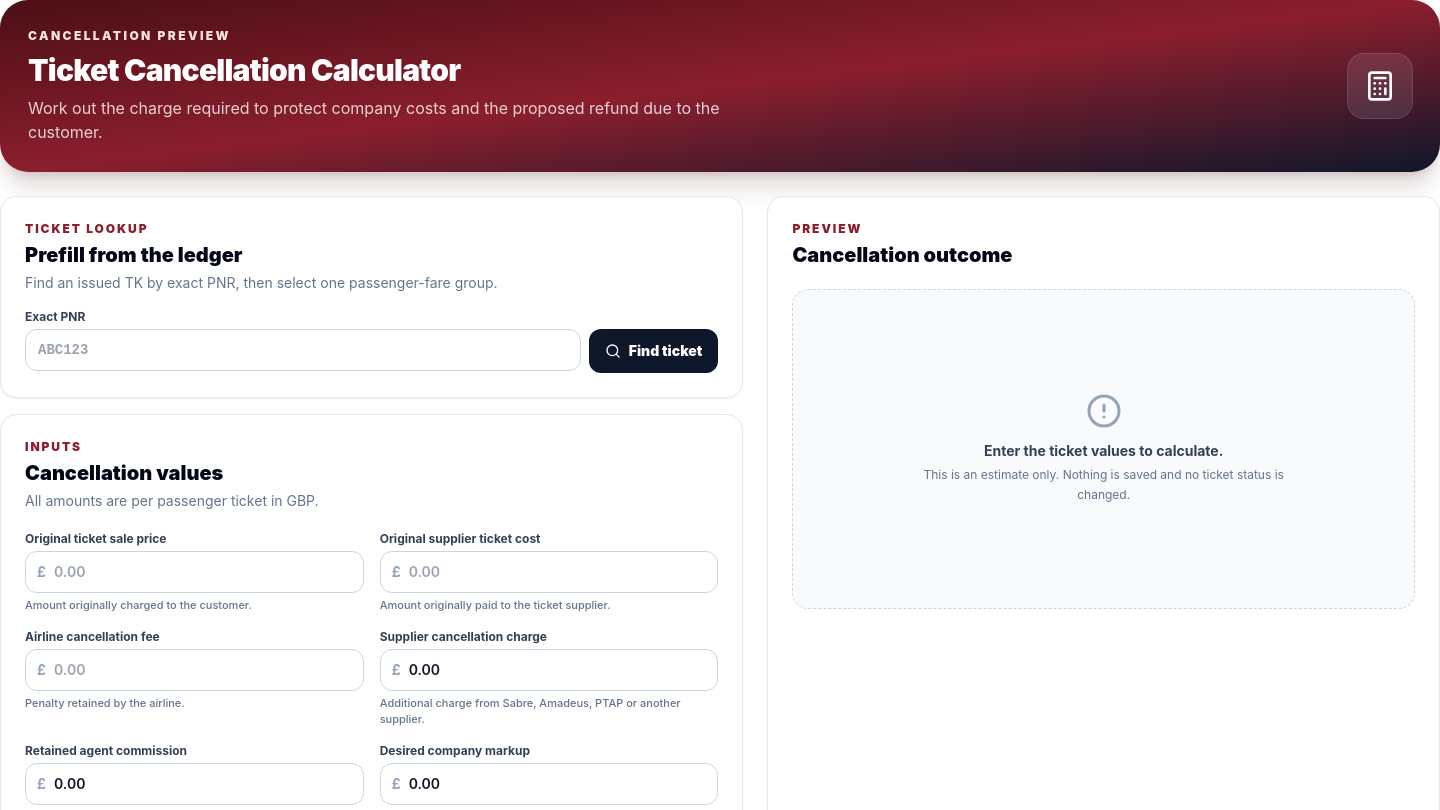
it: TicketCancellationCalculator › calculates the clarified cancellation preview without saving data
Type "800.00" into the field labelled "Original ticket sale price" at (194, 572), box [25, 551, 364, 593]
Type "650.00" into the field labelled "Original supplier ticket cost" at (549, 572), box [380, 551, 718, 593]
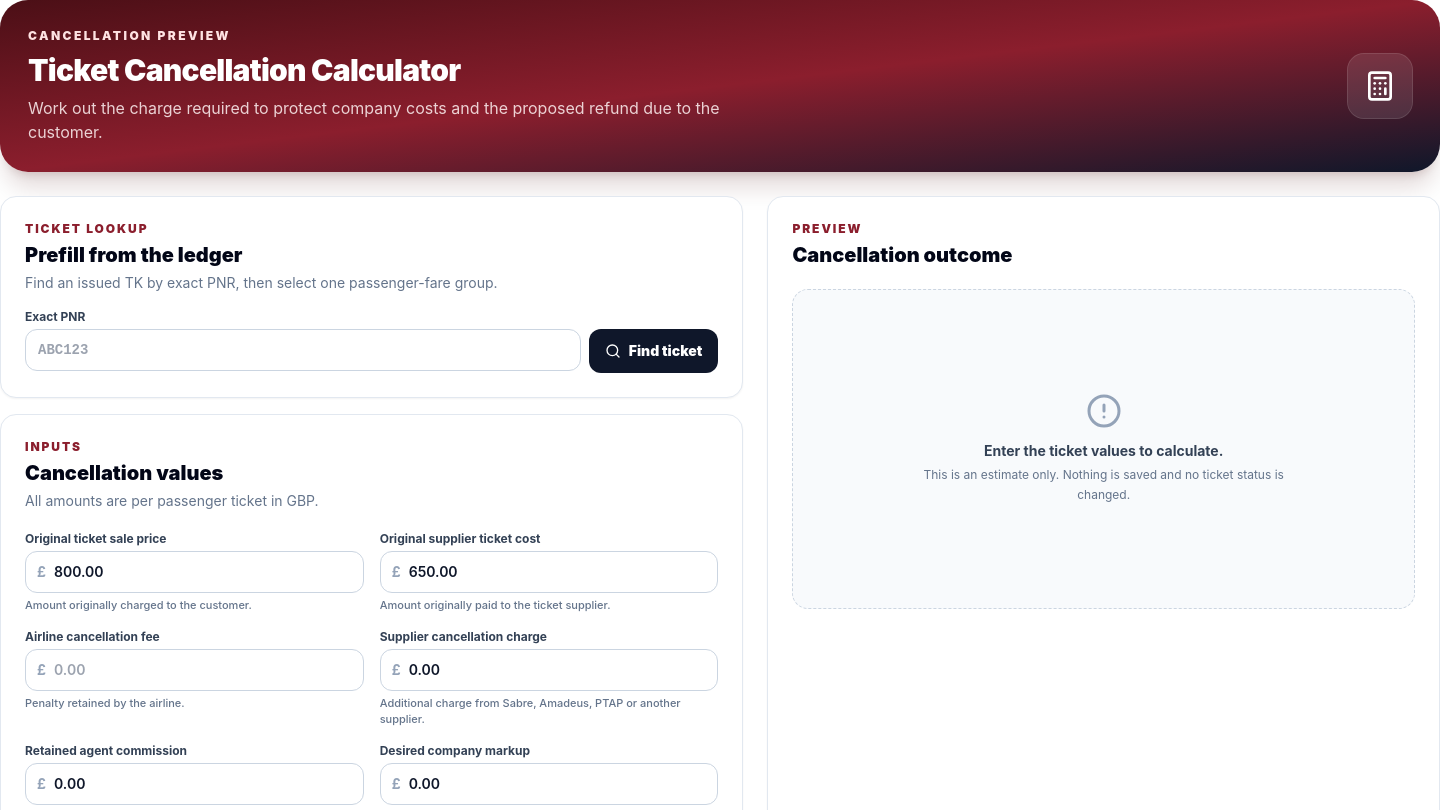
Type "150.00" into the field labelled "Airline cancellation fee" at (194, 670), box [25, 649, 364, 691]
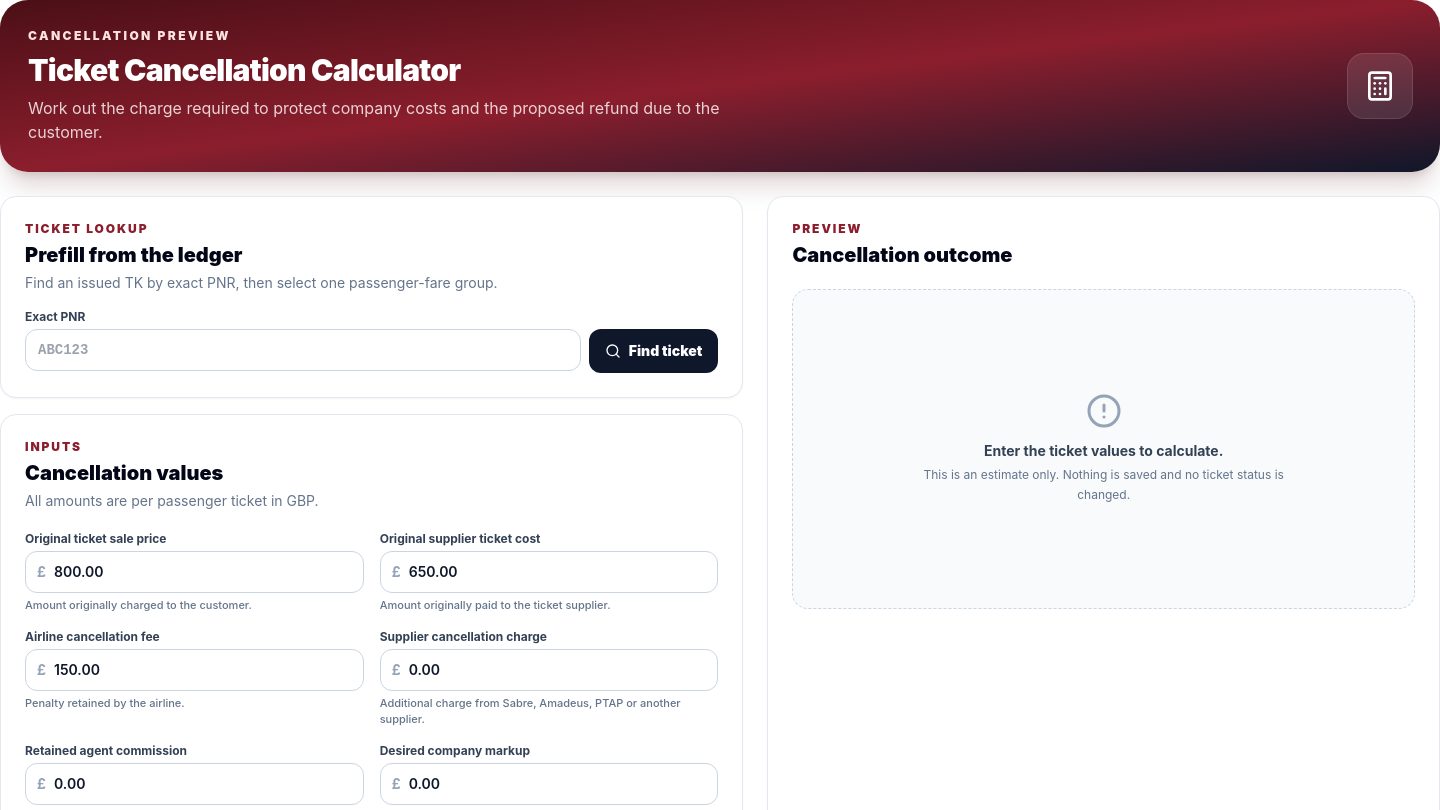
Type "10.00" into the field labelled "Supplier cancellation charge" at (549, 670), box [380, 649, 718, 691]
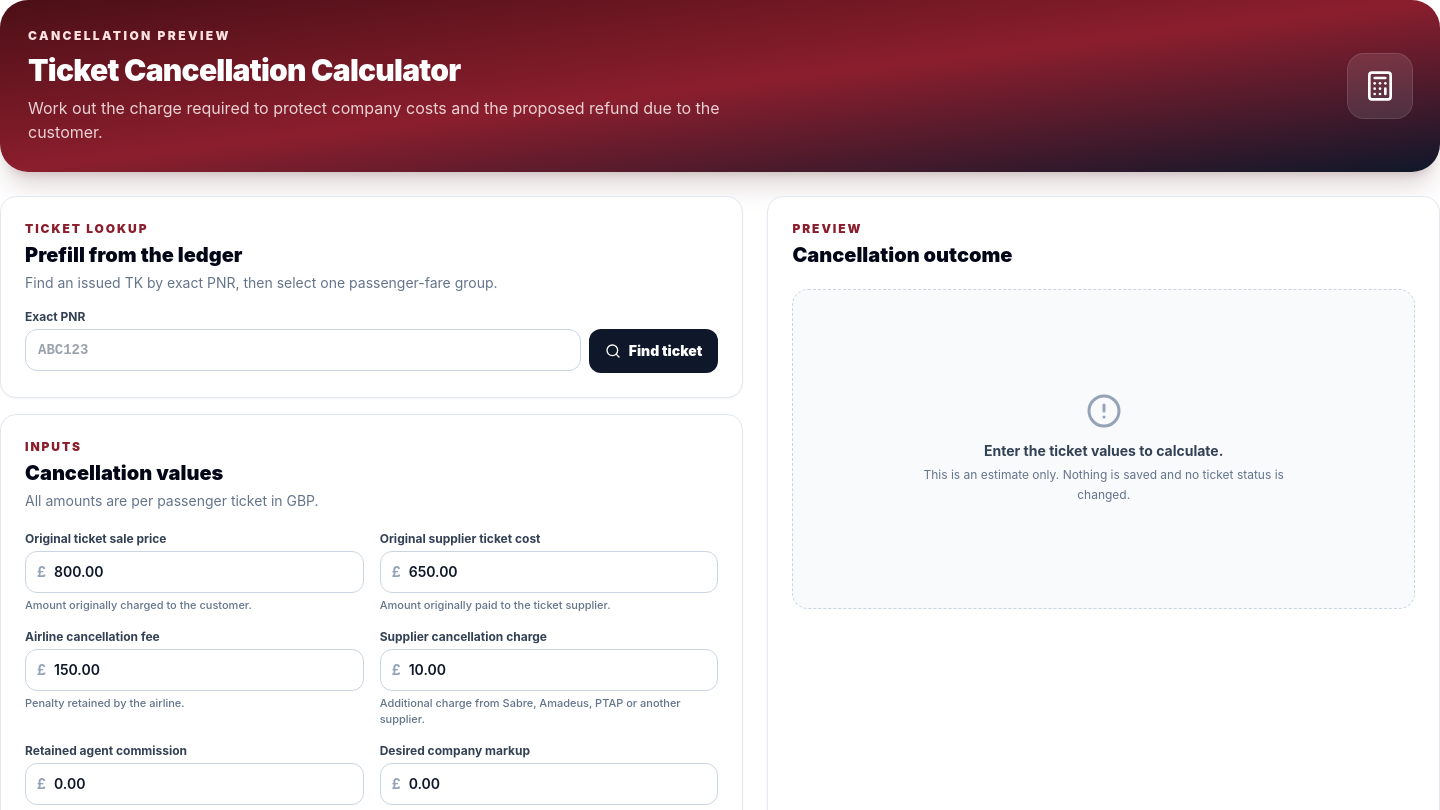
Type "5.00" into the field labelled "Retained agent commission" at (194, 784), box [25, 763, 364, 805]
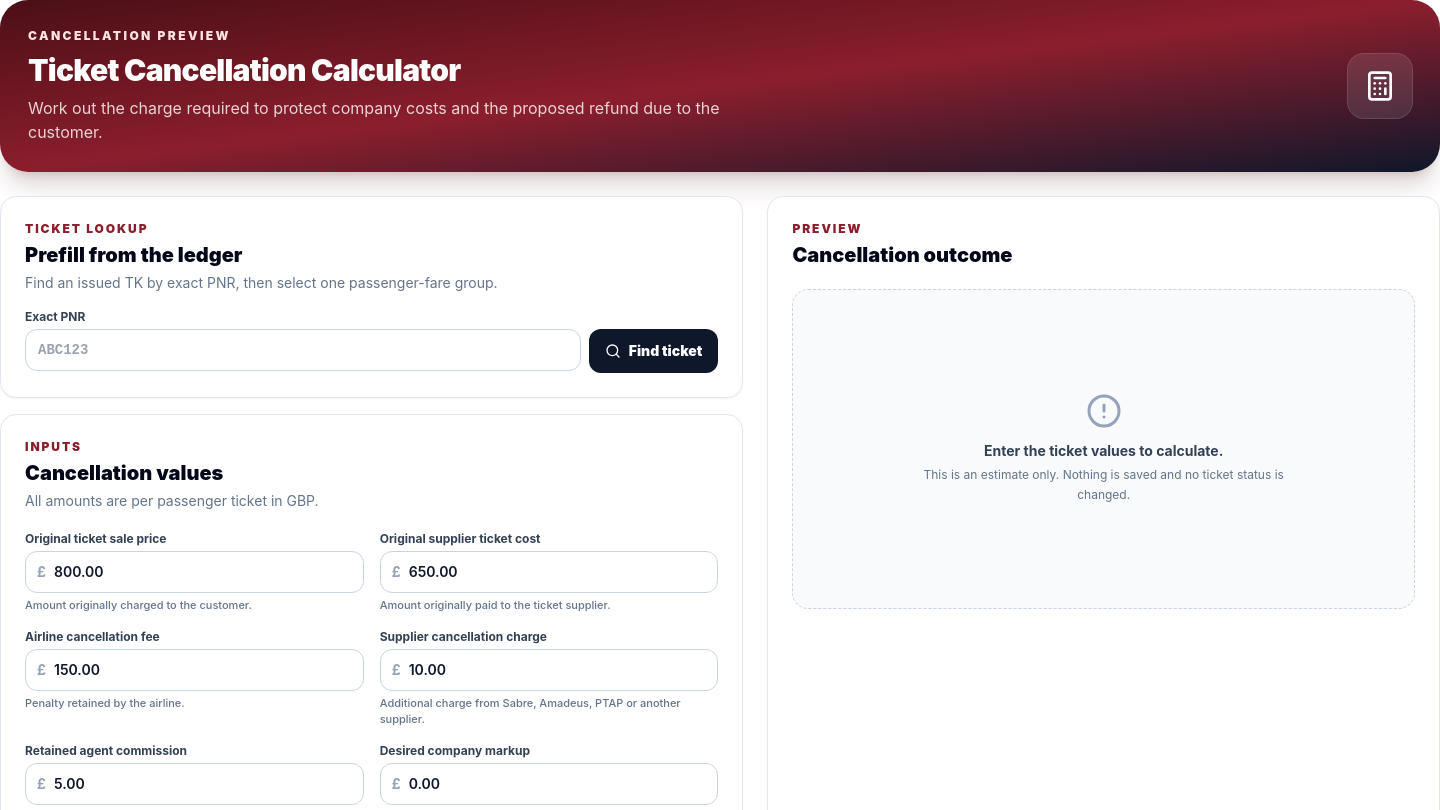
Type "20.00" into the field labelled "Desired company markup" at (549, 784), box [380, 763, 718, 805]
(page scrolled)
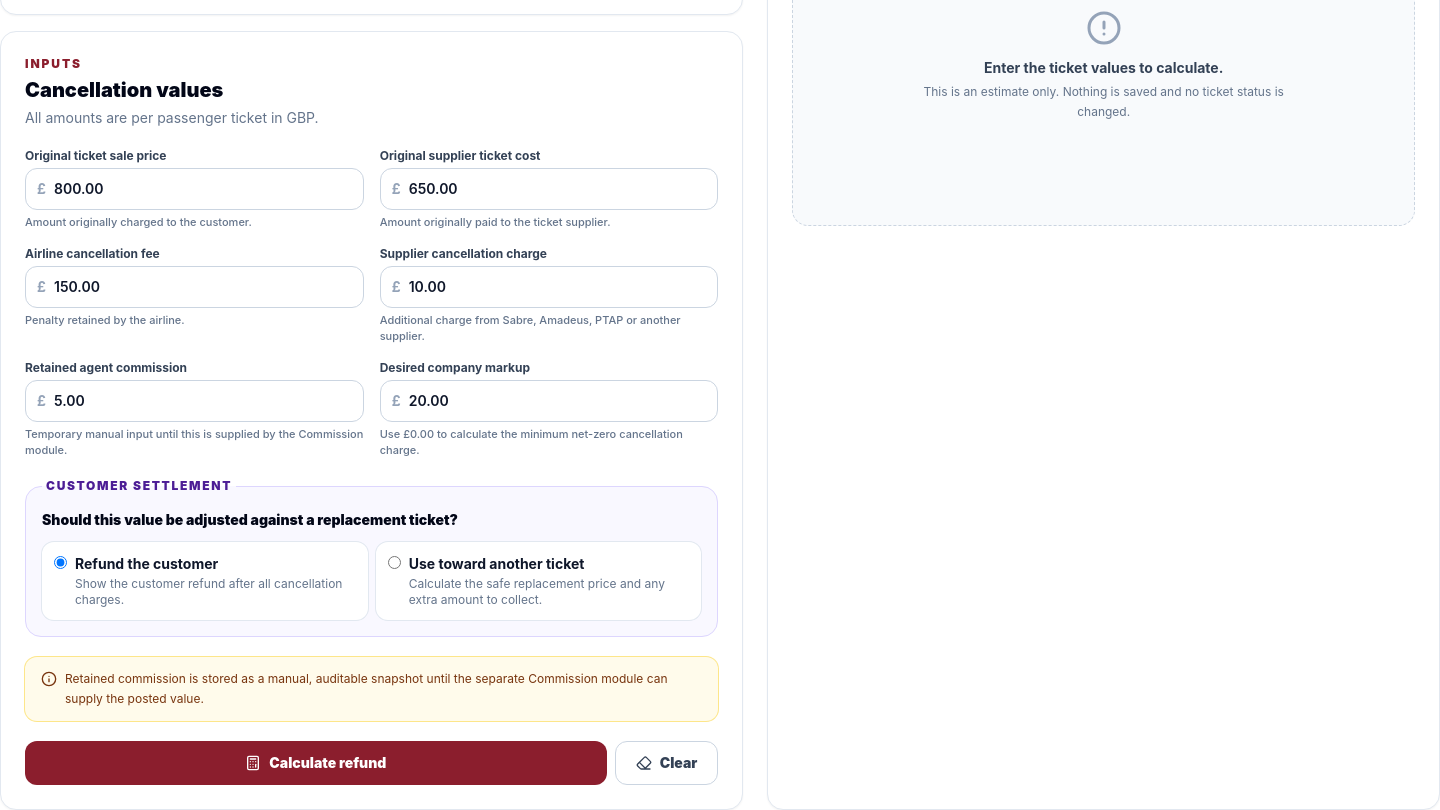
Click the button "Calculate refund" at (316, 763), box [25, 741, 607, 785]
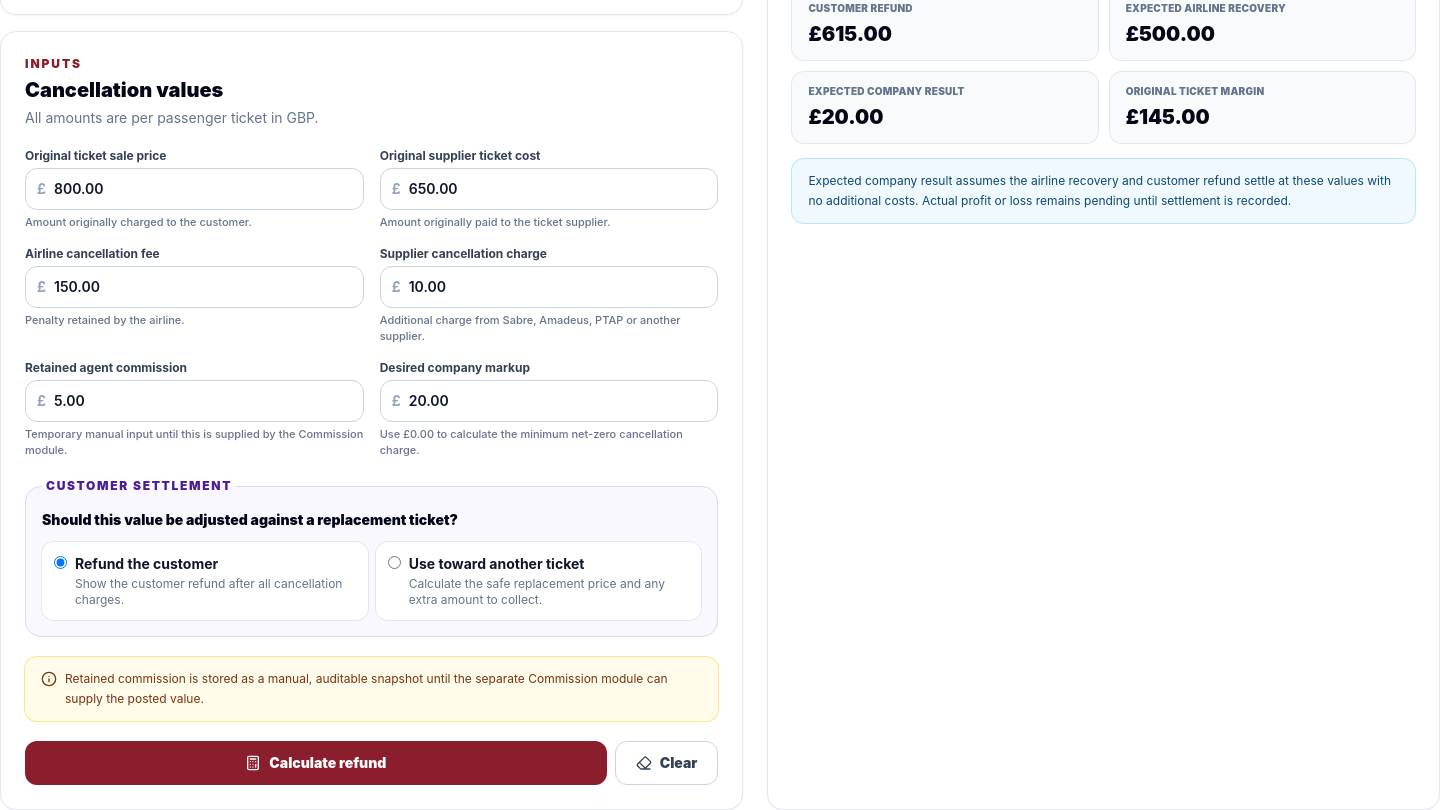
Check: the text "£615.00" is shown, box [808, 22, 892, 46]
Check: the text "£500.00" is shown, box [1126, 22, 1215, 46]
Check: the text "£20.00" is shown, box [808, 105, 883, 129]
